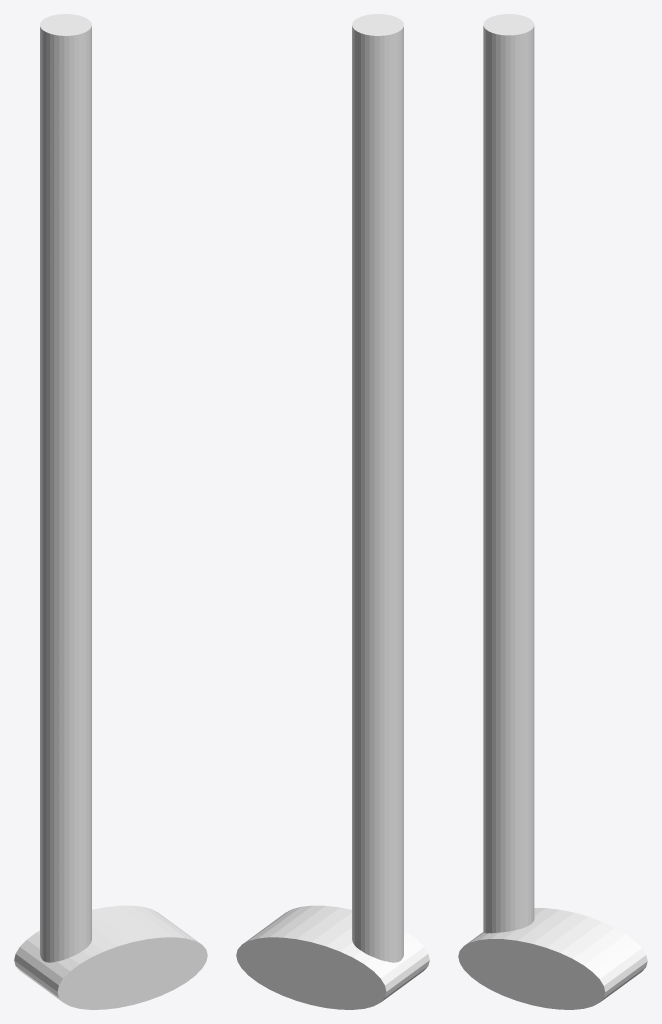
Rendered from putter.obj.
3 views of the same model, side by side, from view 1: azimuth 30°, elevation 25°; view 2: azimuth 150°, elevation 25°; view 3: azimuth 330°, elevation 25° (orthographic). The views are drawn at different scales.
Parts seen in each view (by area): view 1: Cylinder.001; view 2: Cylinder.001; view 3: Cylinder.001.
Boxes of the visible parts, <box> form: Cylinder.001: <box>14,14,207,1009</box>; Cylinder.001: <box>236,14,429,1009</box>; Cylinder.001: <box>458,14,647,1009</box>.
Bounding box in the file's own units: 1 × 6.2 × 0.5.
